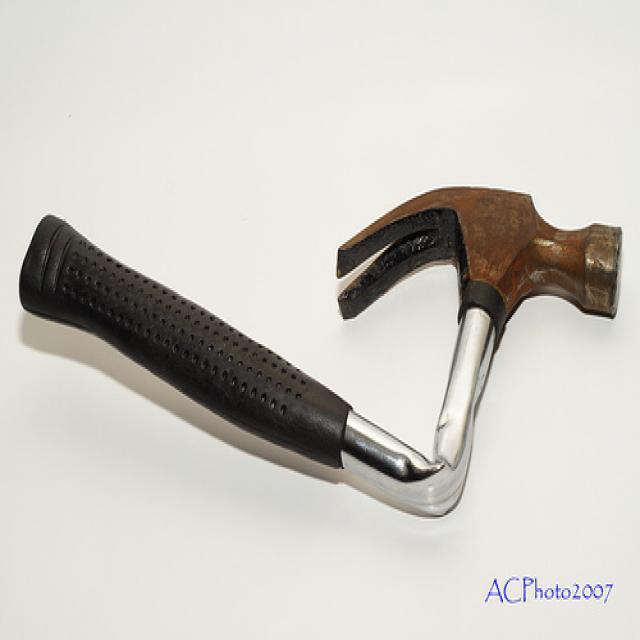hammer: (290, 150, 634, 366)
